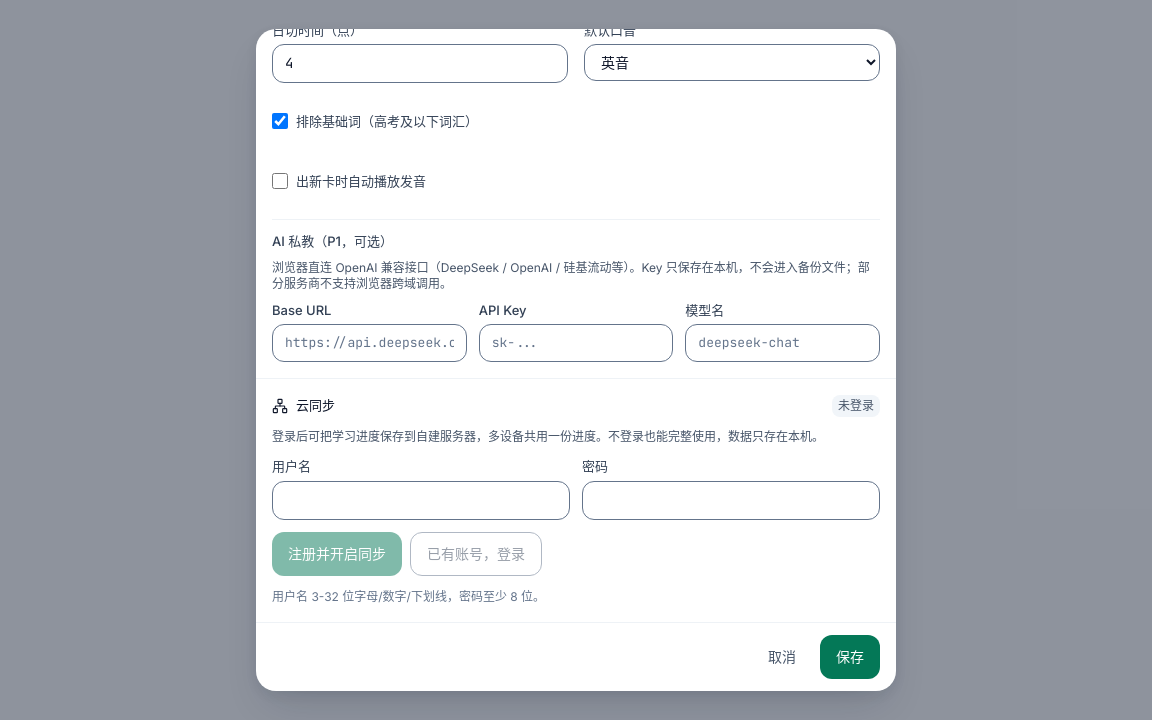
Test: 旧版设置行兼容 › 设置弹窗可打开并完成校验，不因 trim 抛错
This screenshot has width=1152, height=720.
(page scrolled)
expect the field named "AI Base URL" is empty: met, box x1=272 y1=324 x2=467 y2=362
expect the password field named "AI API Key" is empty: met, box x1=479 y1=324 x2=673 y2=362
Click the button "保存".
click(850, 657)  # box x1=820 y1=635 x2=880 y2=679
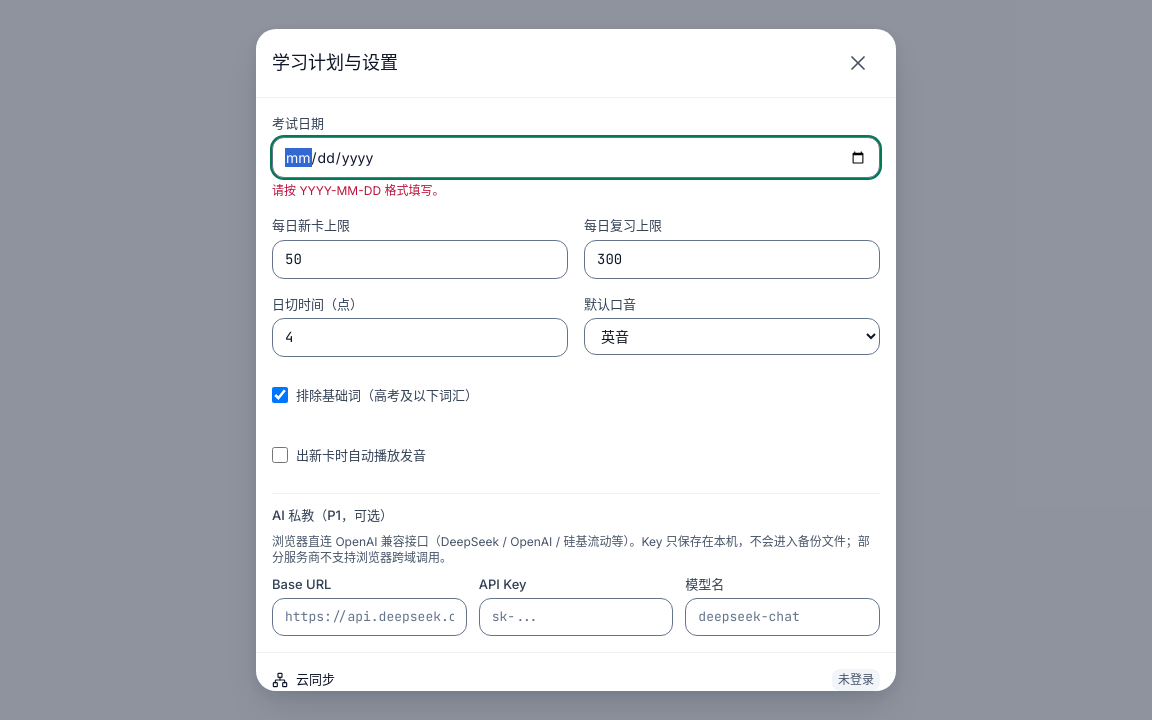
expect the text "请按 YYYY-MM-DD 格式填写。" is shown: met, box x1=272 y1=183 x2=444 y2=198
